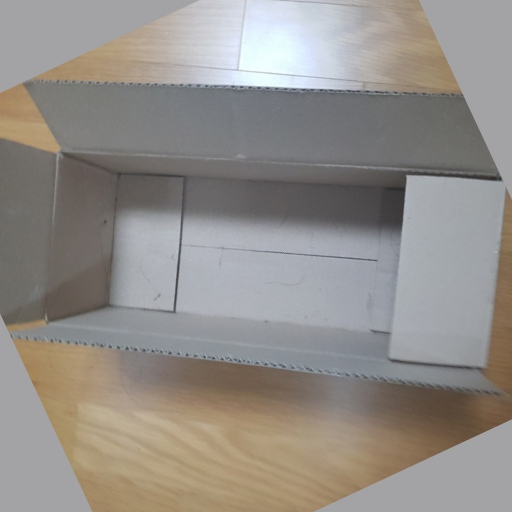Paper_0: (5, 77, 512, 404)
